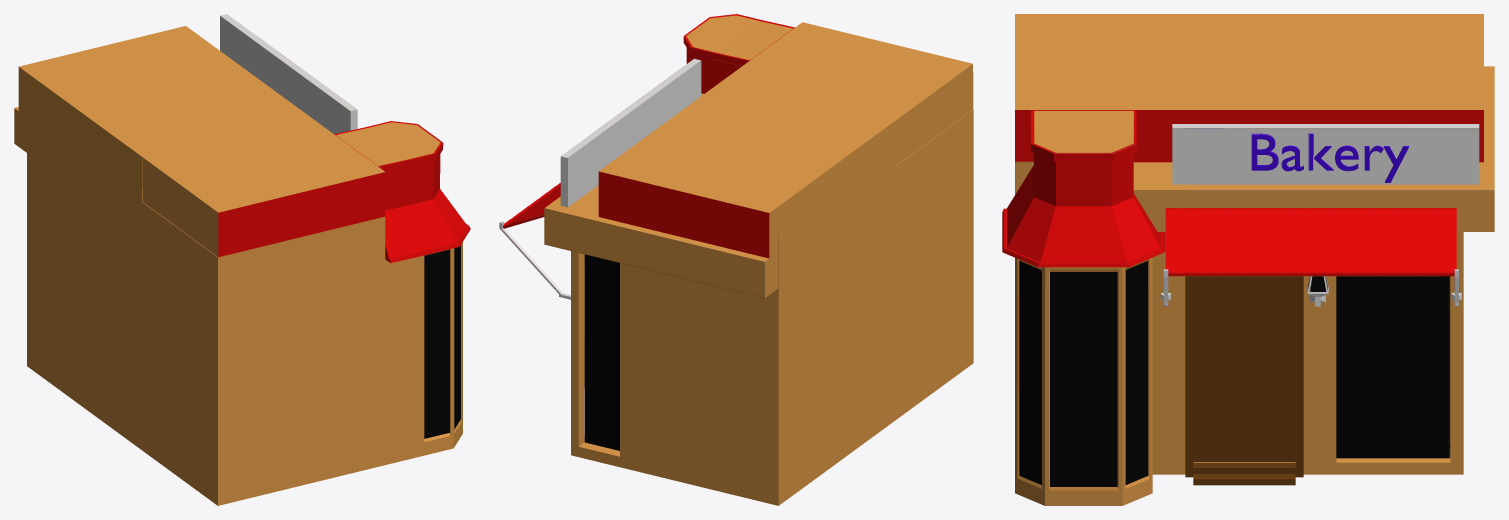
The model's file is bake.fbx.
3 views of the same model, side by side, from view 1: azimuth 30°, elevation 25°; view 2: azimuth 150°, elevation 25°; view 3: azimuth 270°, elevation 25° (orthographic). The views are drawn at different scales.
Parts seen in each view (by area): view 1: Cube.001; view 2: Cube.001; view 3: Cube.001.
Part boxes in pixels (x1,y1,x2,y2): Cube.001: (14, 14, 470, 505); Cube.001: (499, 14, 973, 505); Cube.001: (1002, 14, 1494, 505).
Bounding box in the file's own units: 271 × 279 × 357.
1 material, 1 textured.
